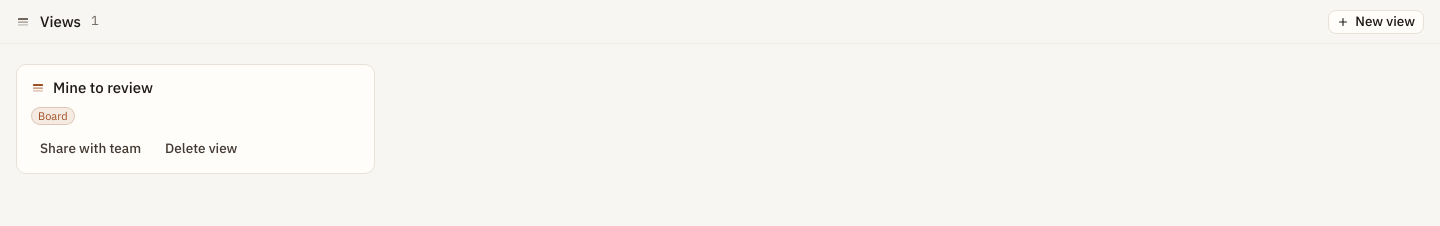
Test: ViewsPage saved views (INV-1005) › shows the server's reason when sharing is refused
The image size is (1440, 226).
Click the button "Share with team" at point(91, 149), box [31,137,150,161]
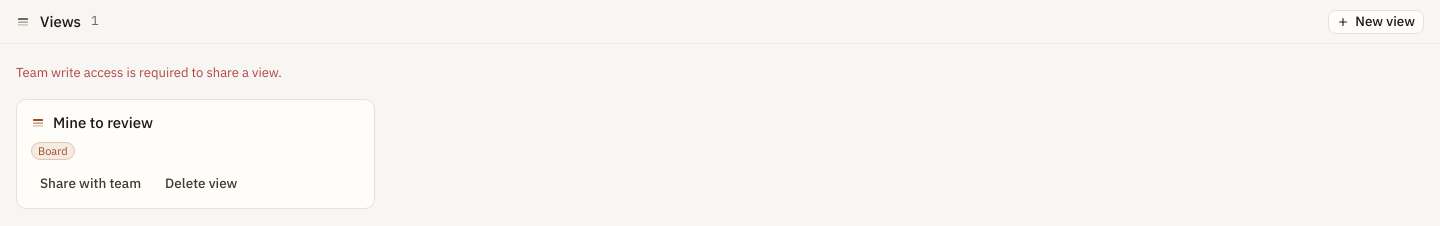
Now the message shows "Team write access is required", box [16,64,282,81]
